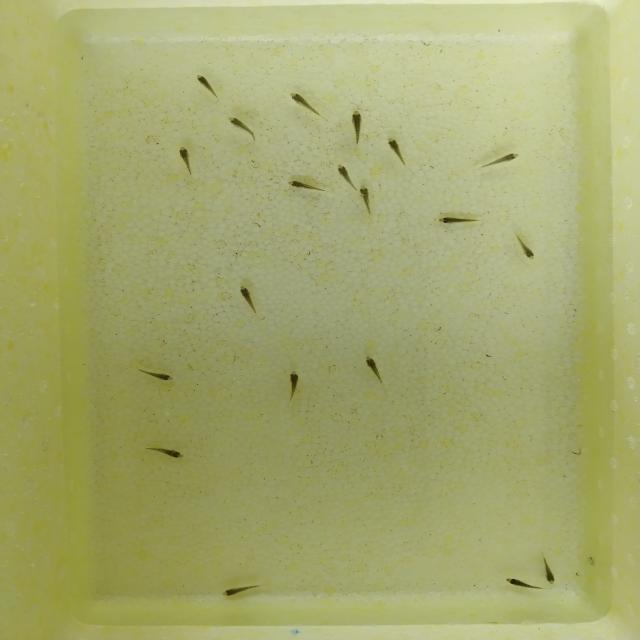fingerling: (146, 441, 193, 466), (234, 284, 264, 312), (287, 173, 322, 196), (189, 72, 222, 96), (501, 570, 536, 592), (220, 582, 258, 602), (286, 92, 323, 112), (224, 114, 256, 137), (356, 352, 386, 375), (537, 560, 562, 587), (282, 367, 305, 395), (348, 108, 369, 138), (329, 162, 356, 184), (515, 242, 542, 264), (438, 211, 471, 228), (387, 134, 407, 162), (492, 150, 524, 167), (175, 143, 195, 170), (140, 371, 184, 383), (357, 185, 380, 206)
